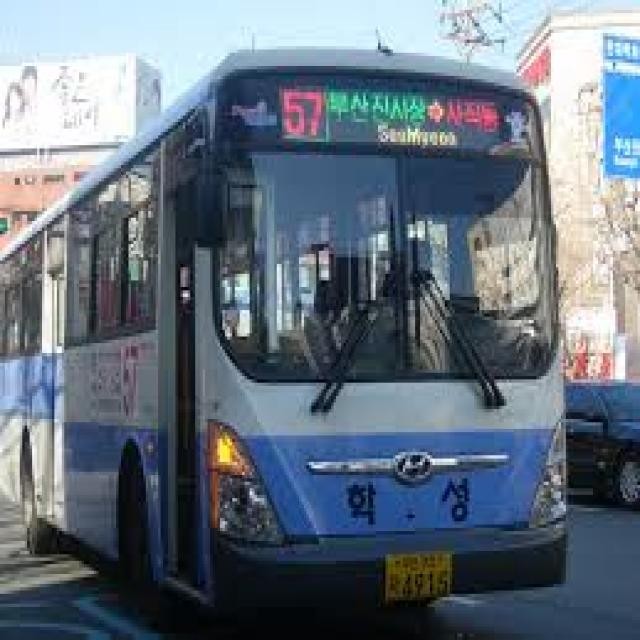bus-number: (282, 90, 324, 138)
